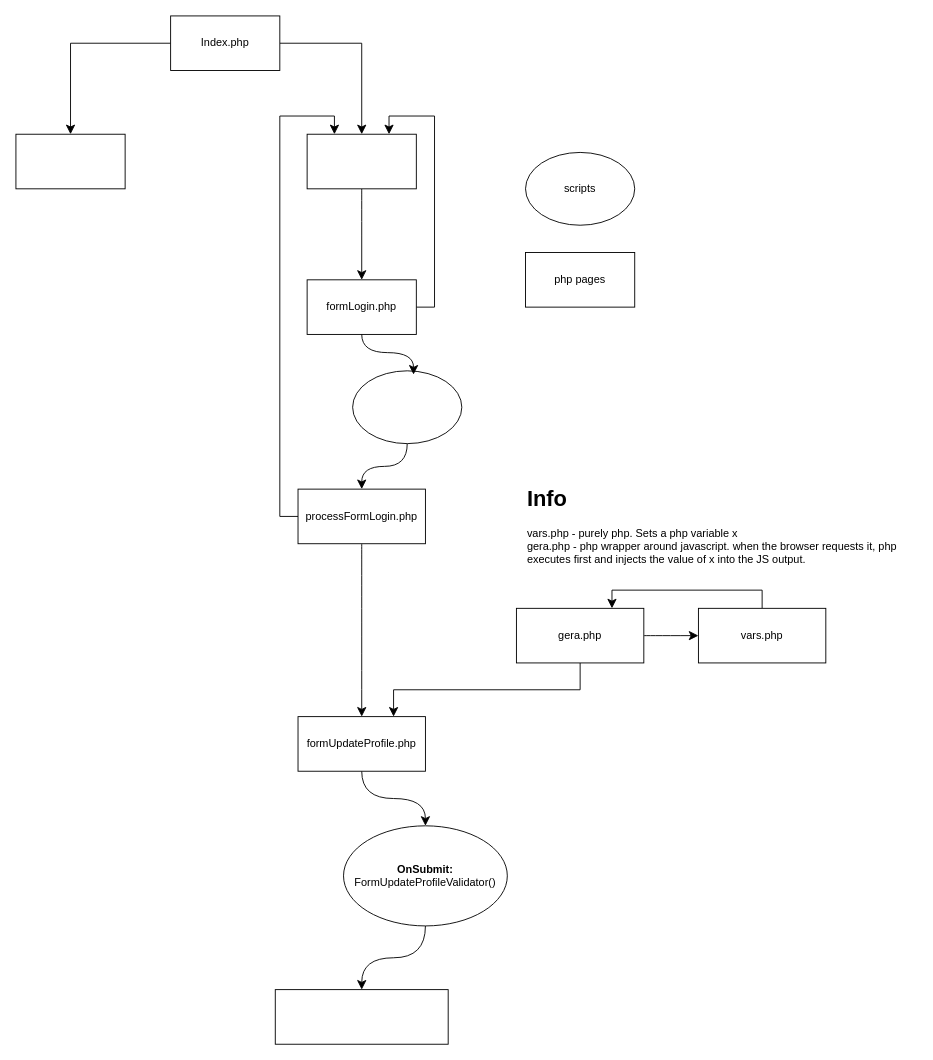
Some shapes in this 933 by 1060 pixel diagram are drawn without their labels. The box of each missing label's shape, as (x1, y1, x2, y2) in pixels:
indexForms.php: (306, 133, 416, 189)
javascript/index.php: (15, 133, 125, 189)
OnSubmit: FormLoginValidator(): (352, 370, 462, 444)
processFormUpdateProfile.php: (274, 989, 448, 1044)
